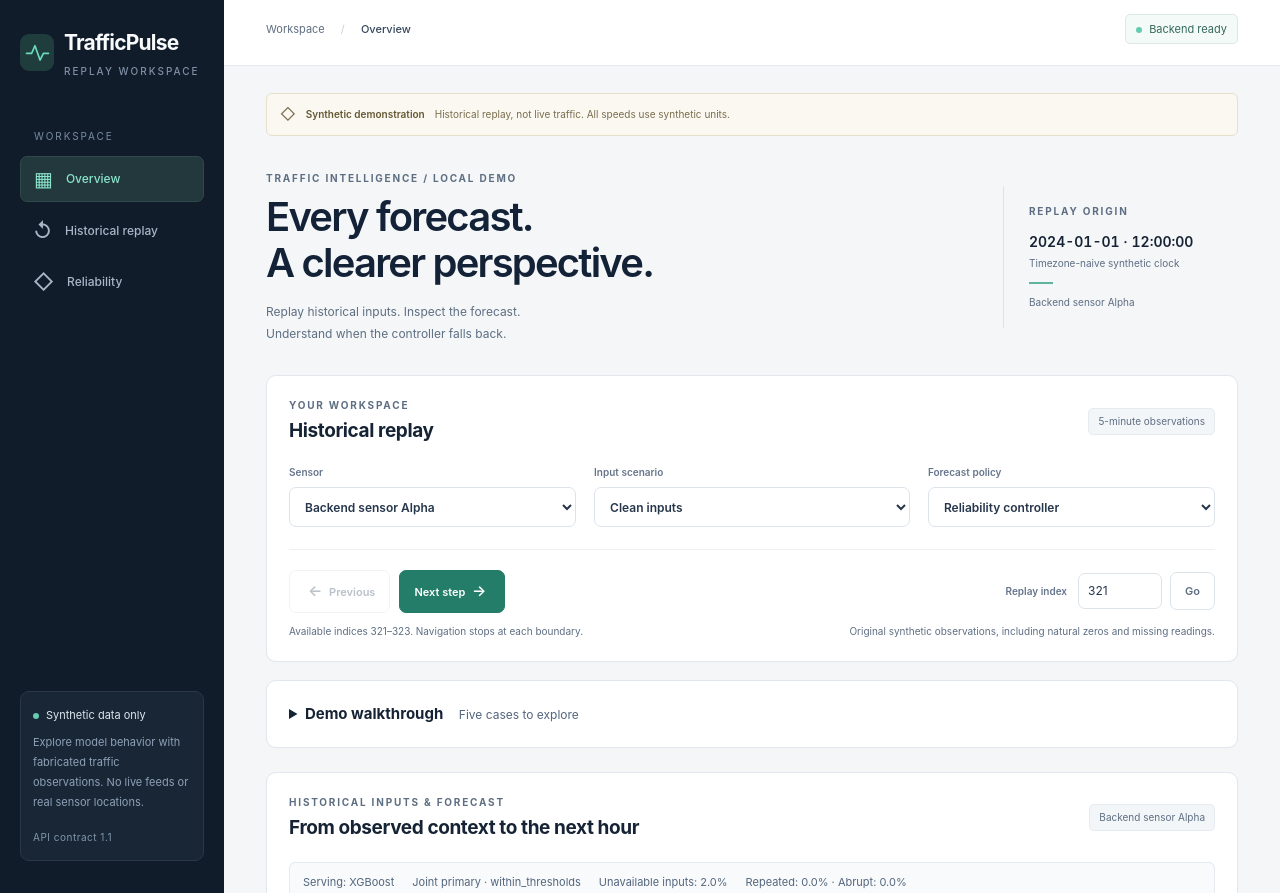
Scenario: synthetic dashboard foundation › selects only backend sensors and shows the server controller reason under faults
Step 1. Select "Backend sensor Beta" in the dropdown labelled "Sensor" → (433,507), box [289,487,576,527]
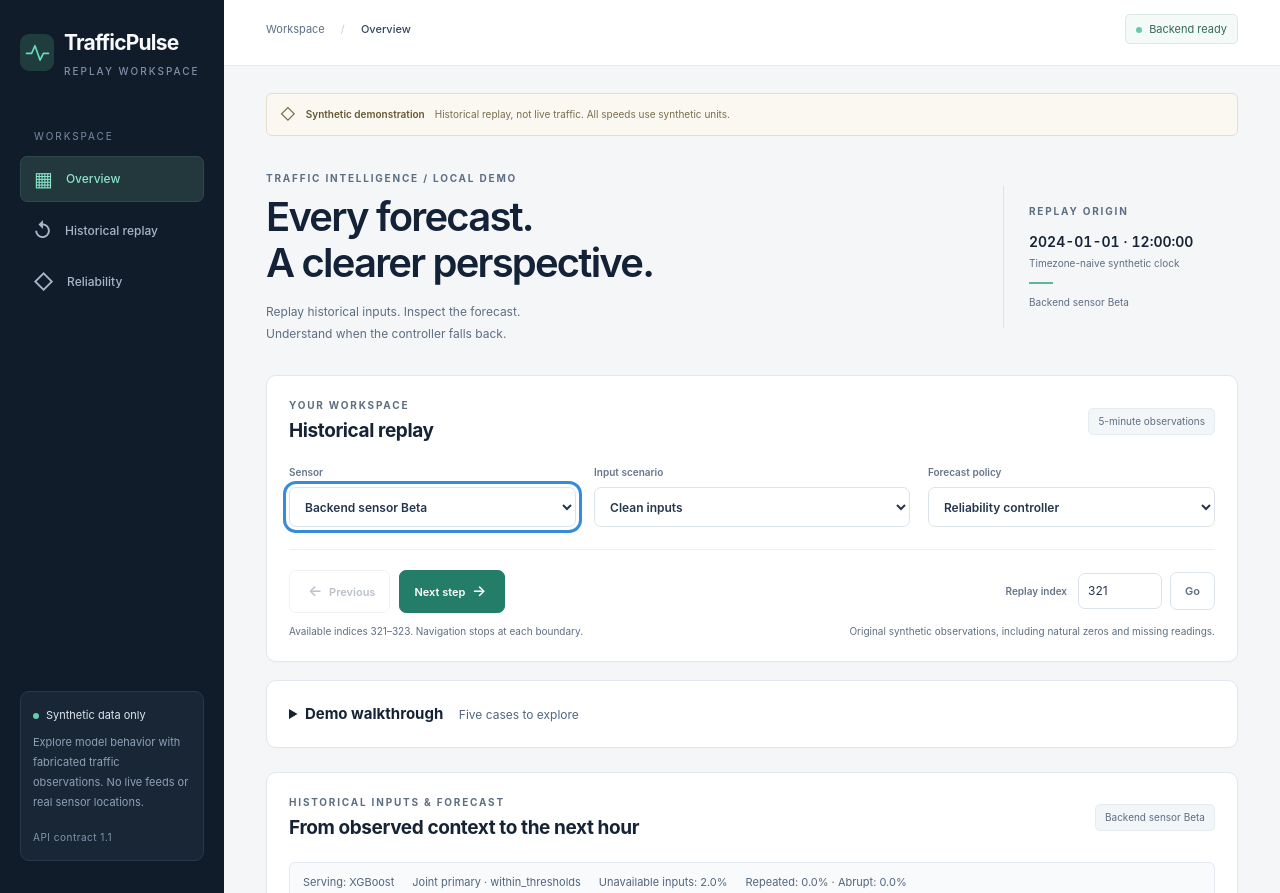
Step 2. Select "Simulated missing readings" in the dropdown labelled "Input scenario" → (752,507), box [594,487,910,527]
(page scrolled)
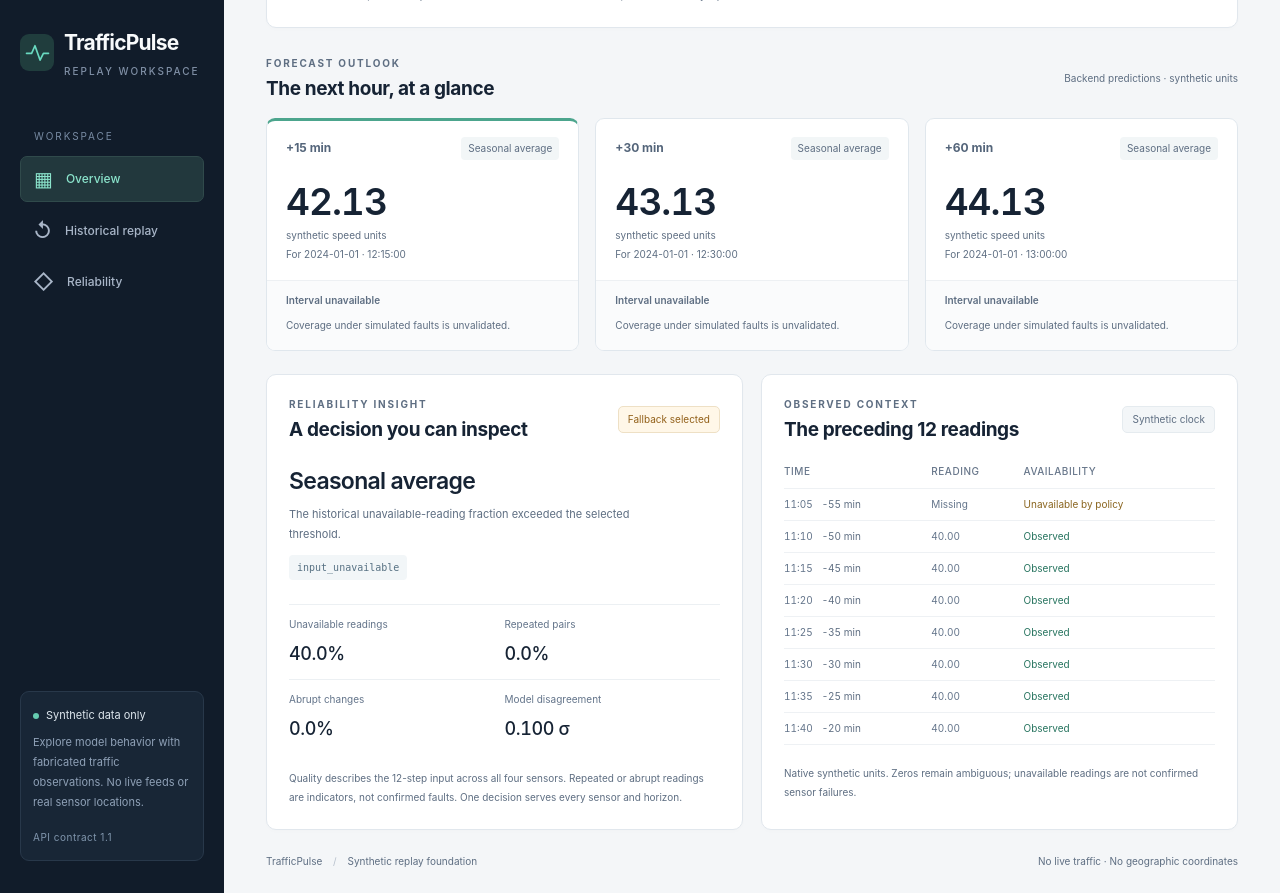
Expected: the text "Interval unavailable" is shown 3 times, [286,294,380,306]; [615,294,709,306]; [945,294,1039,306]
Result: the text "Fallback selected" is shown at [618,406,720,433]
Result: the text "input_unavailable" is shown at [289,555,407,580]
